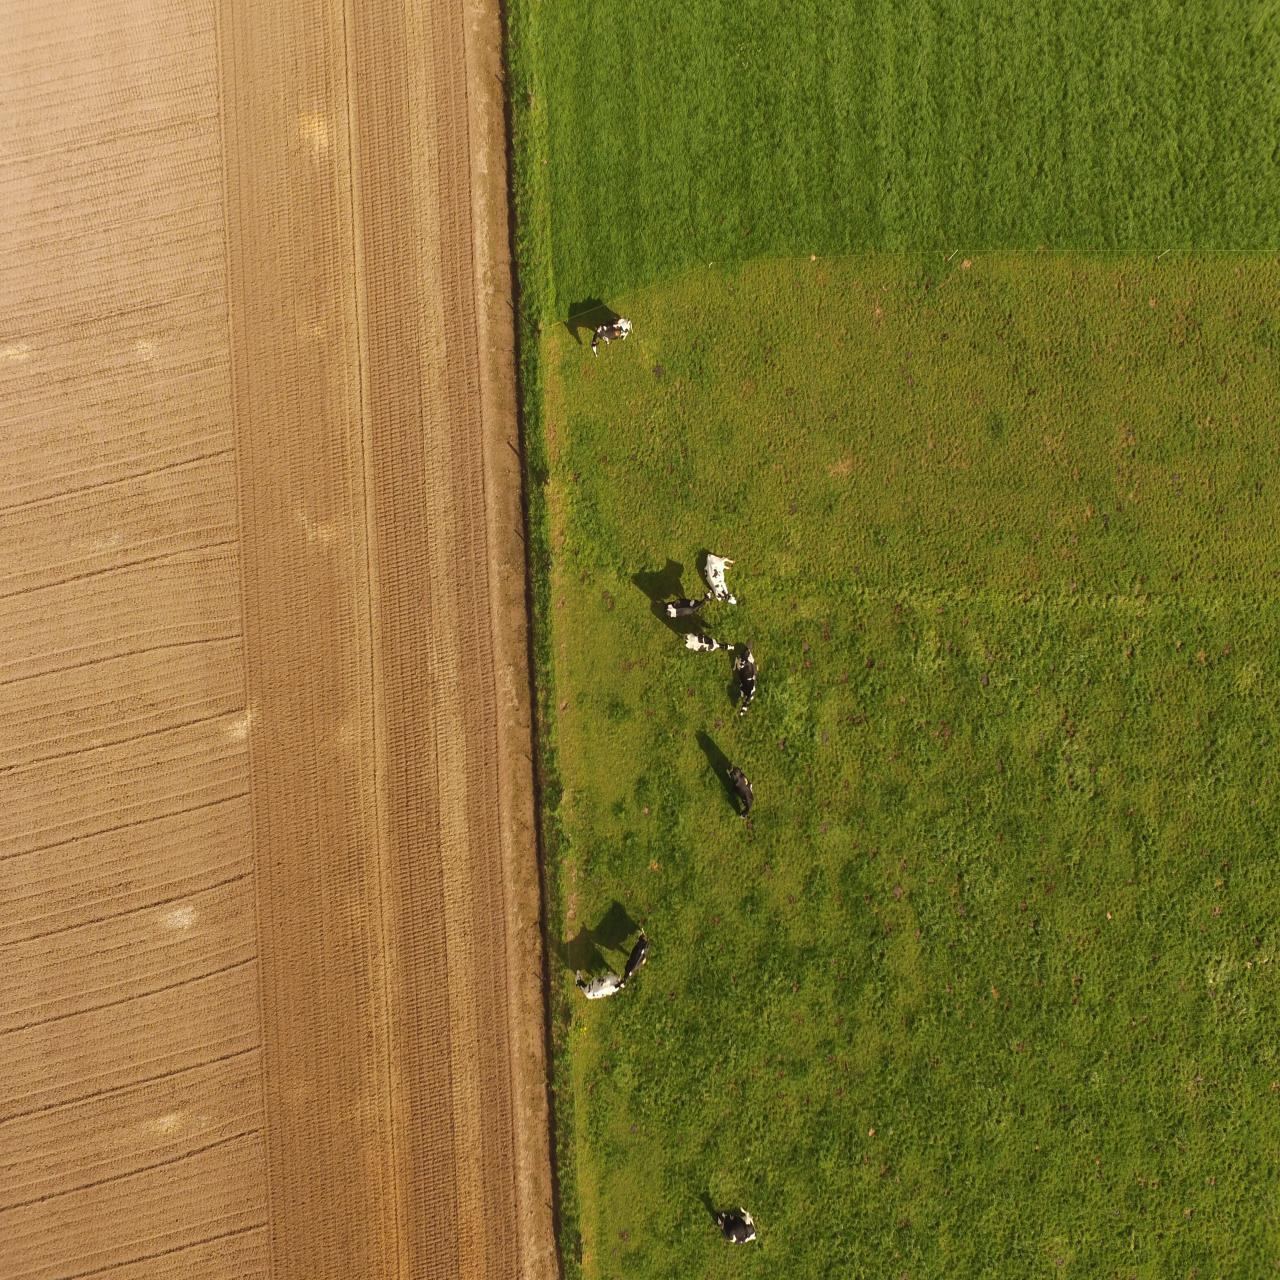cow: (614, 927, 652, 992), (731, 647, 763, 713), (703, 552, 738, 606), (591, 314, 634, 358), (573, 965, 622, 1000), (716, 1205, 760, 1245), (726, 763, 755, 821), (663, 587, 715, 619), (683, 632, 735, 652)
